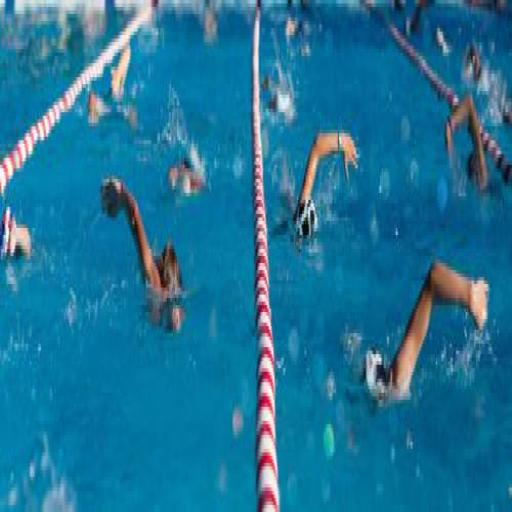swimming: (358, 252, 490, 414), (98, 168, 188, 337), (270, 119, 360, 253), (441, 88, 511, 207), (165, 147, 208, 207), (0, 193, 33, 270)
